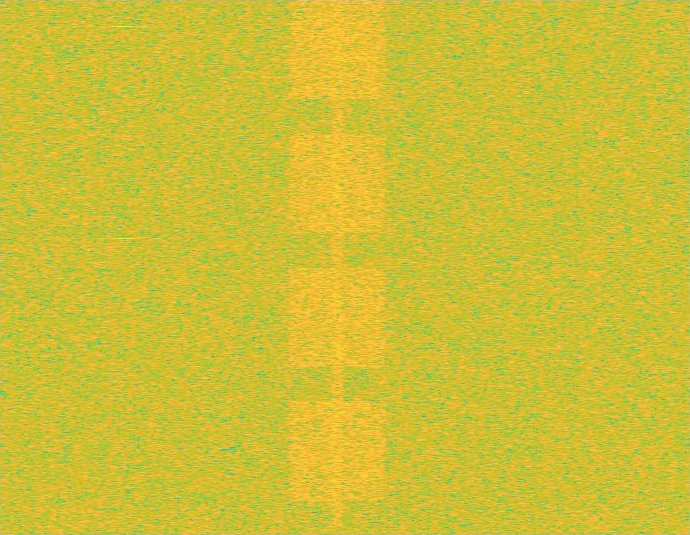5G: (286, 0, 389, 534)
DSSS: (331, 0, 345, 534)
Radar: (117, 0, 131, 534)
